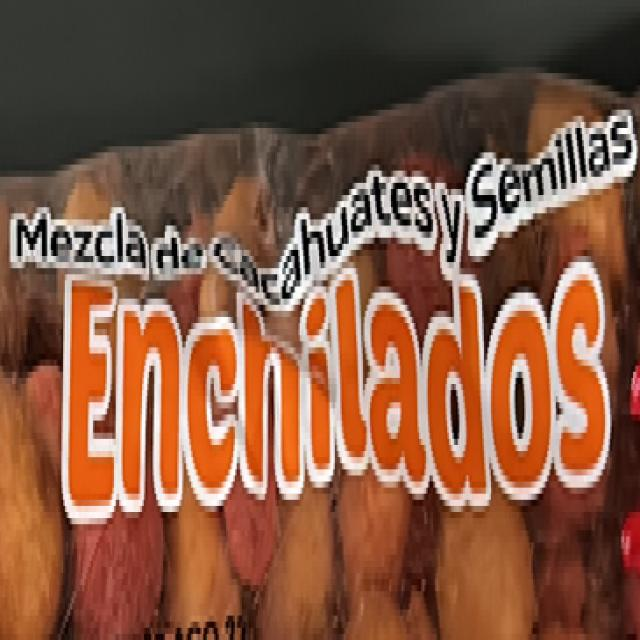bitzEnchilado95: (0, 85, 640, 640)
